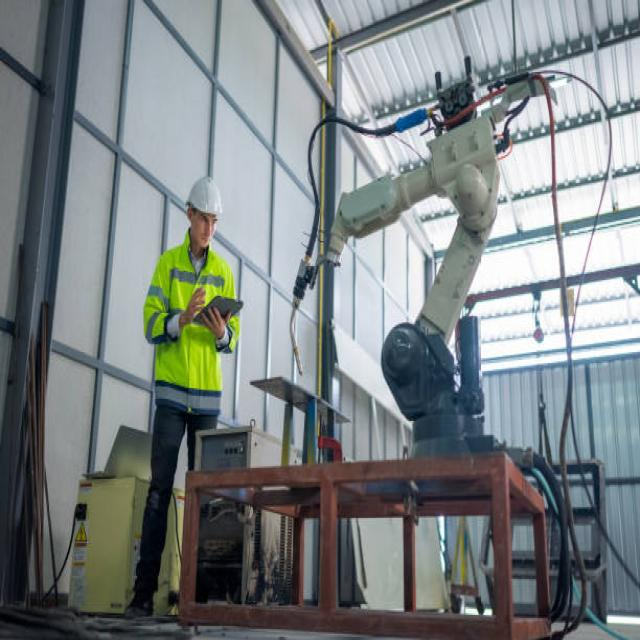Robotic-arm: (318, 113, 507, 463)
